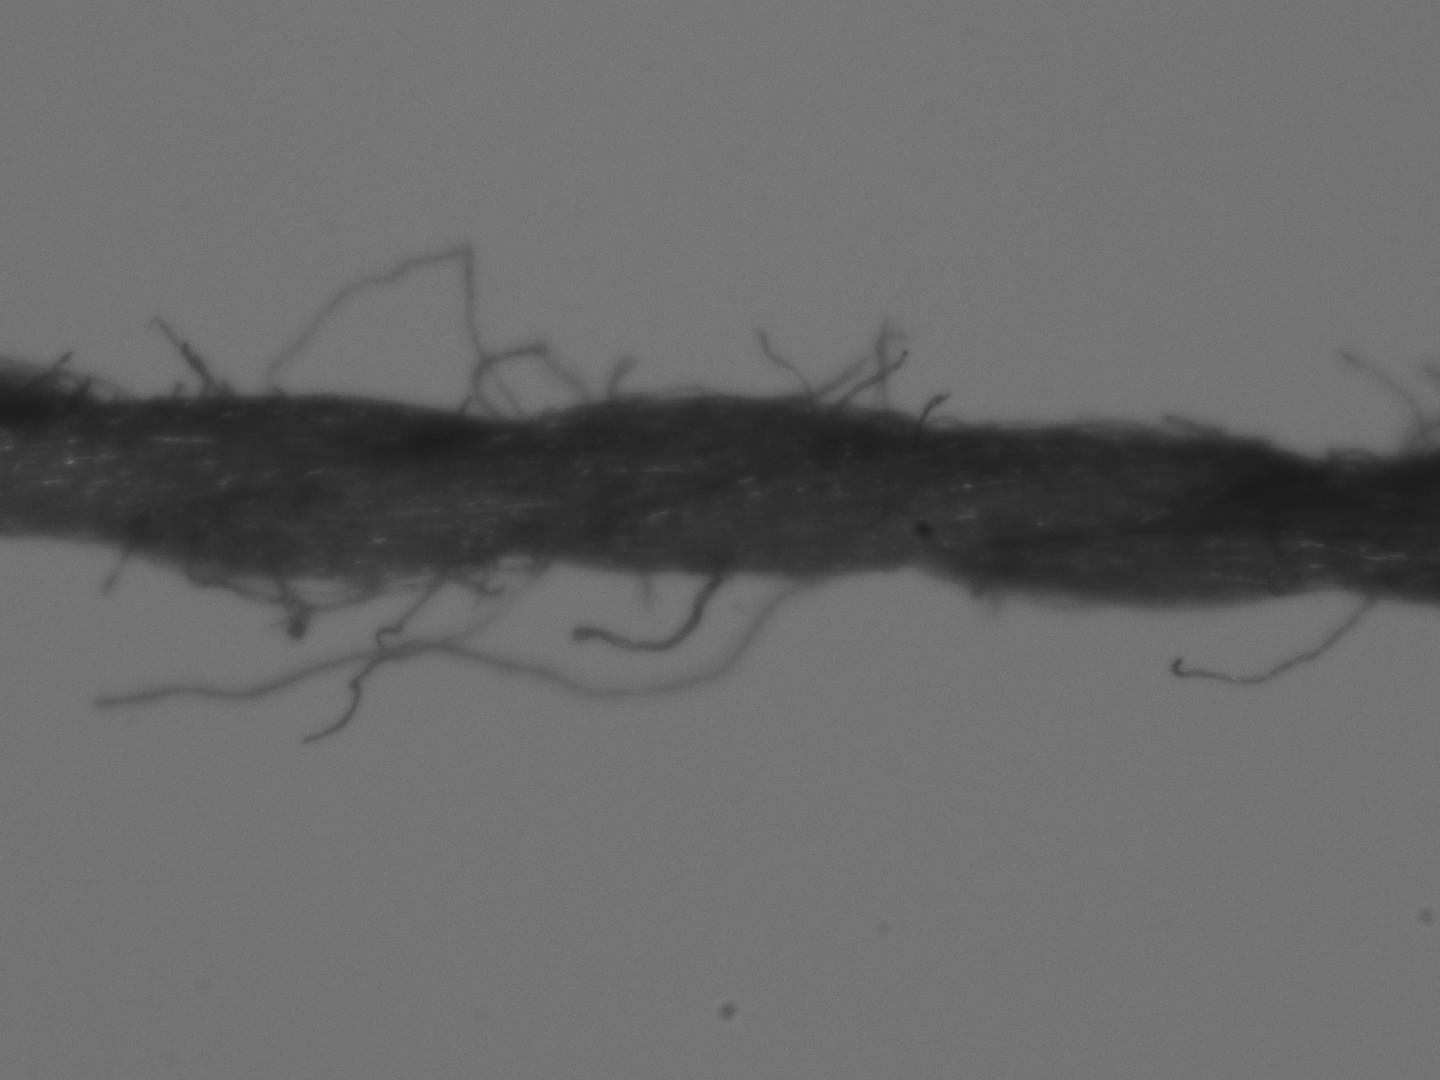loop_fiber: (264, 243, 536, 424), (172, 557, 544, 633), (471, 340, 595, 421)
protruding_fiber: (82, 567, 836, 711), (290, 555, 491, 750), (1172, 594, 1380, 689), (559, 571, 723, 653), (1340, 351, 1433, 459), (142, 311, 234, 404), (754, 322, 824, 416), (837, 346, 912, 415), (88, 540, 139, 600), (914, 383, 958, 429), (607, 349, 637, 405), (874, 315, 890, 417)
